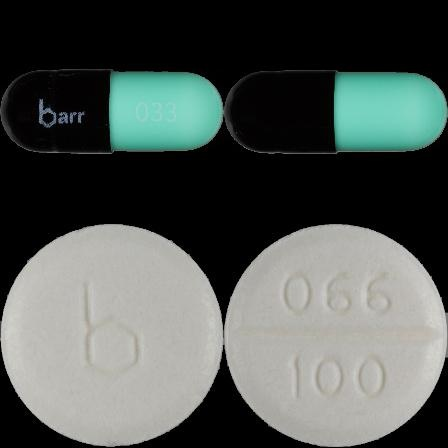0555-0033: (0, 0, 224, 224)
